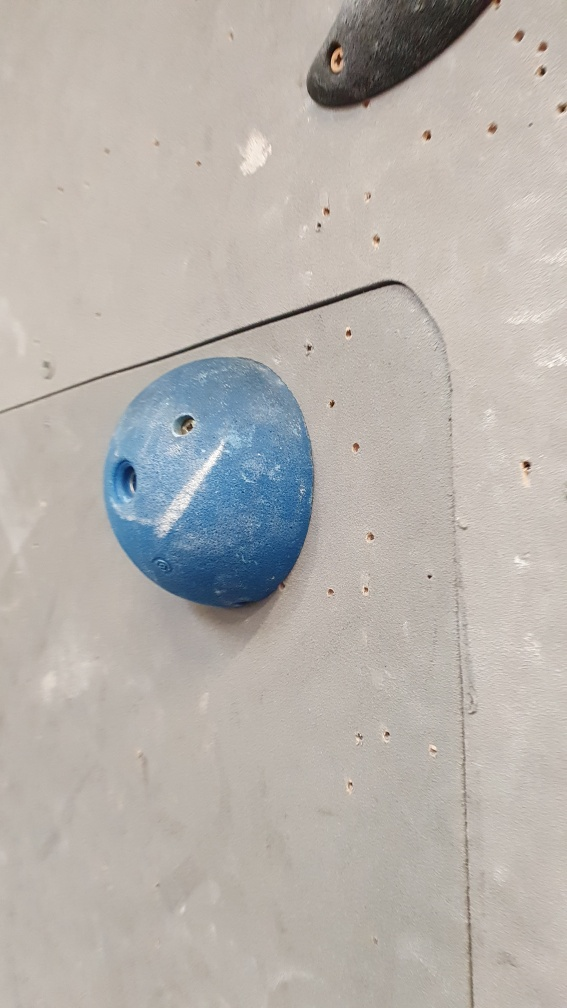Sloper: (100, 354, 321, 616)
